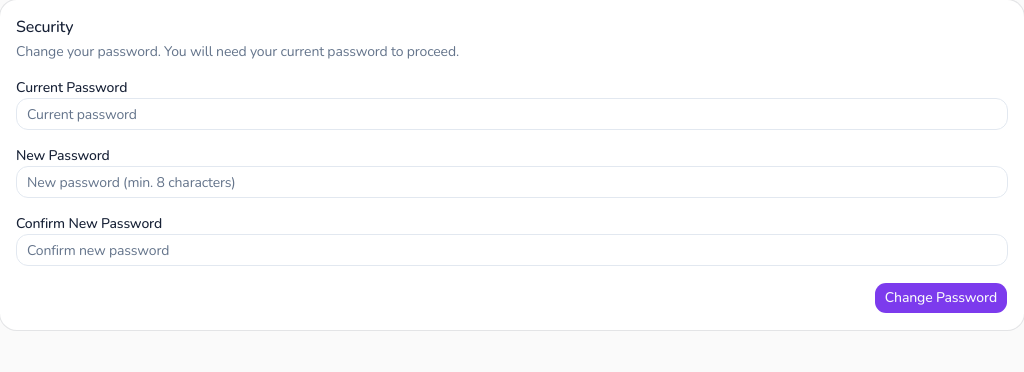
Test: ChangePasswordForm › does not submit when current password is empty
Type "newpass456" into the password field labelled "New Password".
click(512, 182); type("newpass456")  # box [16, 166, 1008, 198]
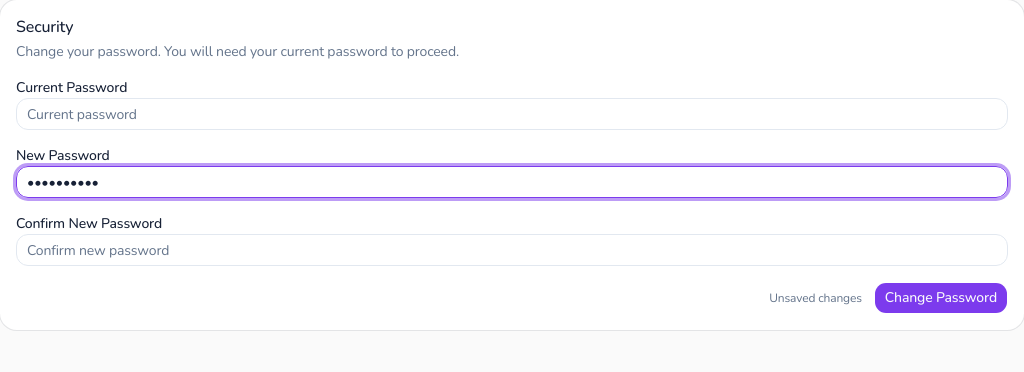
Type "newpass456" into the password field labelled "Confirm New Password".
click(512, 250); type("newpass456")  # box [16, 234, 1008, 266]
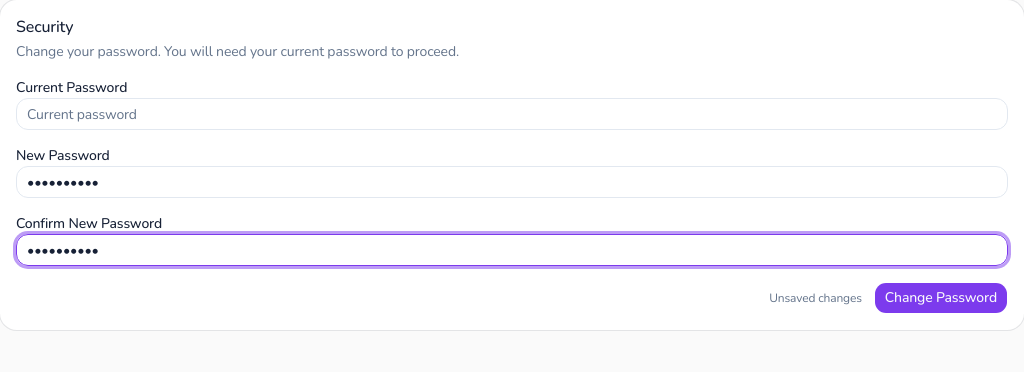
Click the button "Change Password".
click(941, 298)  # box [874, 282, 1008, 314]
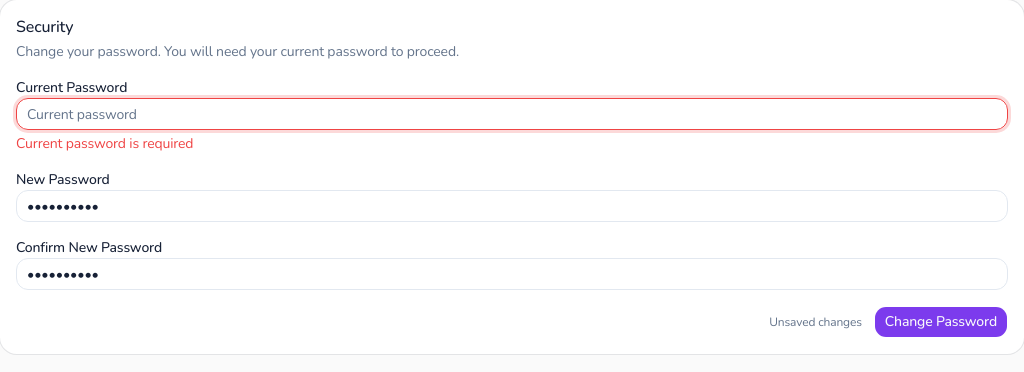
Result: the text "Current password is required" is shown at [16, 134, 193, 153]
